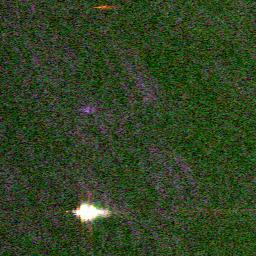Ship: (70, 198, 109, 223)
